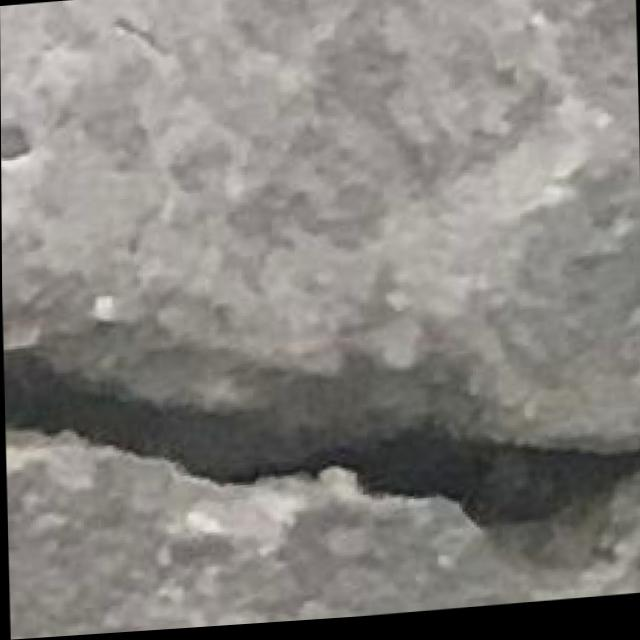Crack: (5, 270, 640, 631)
